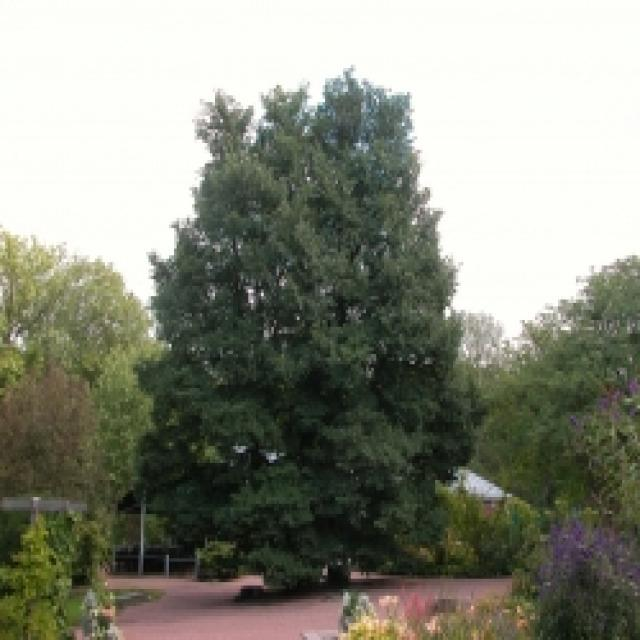olmo: (126, 74, 480, 596)
